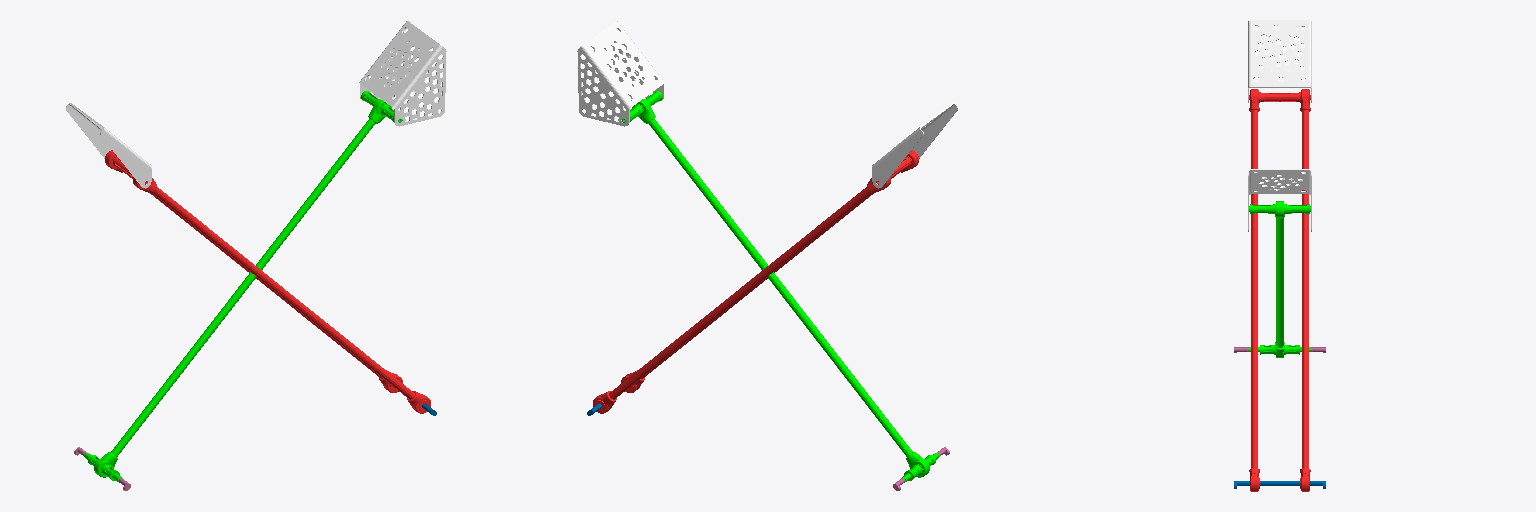
robot.urdf — delta_robot:
<?xml version="1.0"?>
<robot name="delta_robot">

    <!-- RAILS -->
    <link name="rails_link">

        <visual>
            <origin xyz="0 0 0"/>
            <geometry>
                <mesh filename="../meshes/rails.stl"/>
            </geometry>
            <material name="gray">
              <color rgba="0.8 0.8 0.8 1"/>
            </material>
        </visual>
    
    </link>
    <!-- RAILS END-->


    <!-- CARRIAGE 1 -->
    <link name="carriage_1_link">

        <visual>
            <origin xyz="0. 0. 0."/>
            <geometry>
                <mesh filename="../meshes/carriage_1.stl"/>
            </geometry>
            <material name="white">
              <color rgba="1. 1. 1. 1."/>
            </material>
        </visual>

    </link>

    <joint name="carriage_1_joint" type="prismatic">
        <origin xyz="0. 0. 0." rpy="0 0 0"/>
        <parent link="rails_link"/>
        <child link="carriage_1_link"/>
        <axis xyz="-1 0 1"/>
        <limit lower="60" upper="350" velocity="0" effort="0"/> 
    </joint>
    <!-- CARRIAGE 1 END-->


    <!-- CARRIAGE 2 -->
    <link name="carriage_2_link">

        <visual>
            <origin xyz="0. 0. 0."/>
            <geometry>
                <mesh filename="../meshes/carriage_2.stl"/>
            </geometry>
            <material name="white">
              <color rgba="1. 1. 1. 1."/>
            </material>
        </visual>

    </link>

    <joint name="carriage_2_joint" type="prismatic">
        <origin xyz="0. 0. 0." rpy="0 0 0"/>
        <parent link="rails_link"/>
        <child link="carriage_2_link"/>
        <axis xyz="1 0 1"/>
        <limit lower="60" upper="350" velocity="0" effort="0"/> 
    </joint>
    <!-- CARRIAGE 2 END-->


    <!-- ROD 1 -->
    <link name="rod_1_link">

        <visual>
            <origin xyz="0 0 0" rpy="0 0 0"/>
            <geometry>
                <mesh filename="../meshes/link_1.stl"/>
            </geometry>
            <material name="red">
              <color rgba="1. 0.2 0.2 1."/>
            </material>
        </visual>

    </link>

    <joint name="rod_1_joint" type="revolute">
        <origin xyz="0. 0. 0." rpy="0 0.7853981634 0"/>
        <parent link="carriage_1_link"/>
        <child link="rod_1_link"/>
        <axis xyz="0 -1 0"/>
        <limit lower="0" upper="6.28" velocity="0" effort="0"/> 
    </joint>

    <link name="rod_1_end-effector_link">
        <visual>
            <origin xyz="0 0 0" rpy="0 0 0"/>
            <geometry>
                <mesh filename="../meshes/end-effector_joint.stl"/>
            </geometry>
        </visual>
    
    </link>

    <joint name="rod_1_end-effector_joint" type="fixed">
        <origin xyz="450 0 0"/>
        <parent link="rod_1_link"/>
        <child link="rod_1_end-effector_link"/>
    </joint>
    <!-- ROD 1 END-->


    <!-- ROD 2 -->
    <link name="rod_2_link">

        <visual>
            <origin xyz="0 0 0" rpy="0 0 0"/>
            <geometry>
                <mesh filename="../meshes/link_2.stl"/>
            </geometry>
            <material name="green">
              <color rgba="0 1 0 1"/>
            </material>
        </visual>

    </link>

    <joint name="rod_2_joint" type="revolute">
        <origin xyz="0 0 0" rpy="0 2.35619449 0"/>
        <parent link="carriage_2_link"/>
        <child link="rod_2_link"/>
        <axis xyz="0 1 0"/>
        <limit lower="0" upper="6.28" velocity="0" effort="0"/> 
    </joint>

    <link name="rod_2_end-effector_link">
        <visual>
            <origin xyz="0 0 0" rpy="0 0 0"/>
            <geometry>
                <mesh filename="../meshes/end-effector_joint.stl"/>
            </geometry>
        </visual>
    
    </link>

    <joint name="rod_2_end-effector_joint" type="fixed">
        <origin xyz="450 0 0"/>
        <parent link="rod_2_link"/>
        <child link="rod_2_end-effector_link"/>
    </joint>
    <!-- ROD 2 END-->

</robot>

--- Facts derived from the render (not from the file) ---
3 views of the same robot in one strip: view 1: azimuth 30°, elevation 25°; view 2: azimuth 150°, elevation 25°; view 3: azimuth 270°, elevation 25° (orthographic).
Robot: delta_robot — 7 links, 6 joints (2 revolute, 2 prismatic, 2 fixed); root link rails_link; default pose: all joints at 0 but 2 set to mid-range because 0 is outside their limits (carriage_1_joint = 205, carriage_2_joint = 205).
Links seen in each view (by area): view 1: carriage_2_link, rod_2_link, rod_1_link, carriage_1_link; view 2: carriage_2_link, rod_2_link, rod_1_link, carriage_1_link; view 3: rod_1_link, carriage_1_link, rod_2_link, carriage_2_link.
Link boxes in pixels (x1,y1,x2,y2): carriage_2_link: (359,21,446,126); rod_2_link: (84,91,401,482); rod_1_link: (105,150,430,413); carriage_1_link: (66,103,151,188); carriage_2_link: (577,21,664,126); rod_2_link: (622,91,939,482); rod_1_link: (593,150,918,413); carriage_1_link: (872,103,957,188); rod_1_link: (1249,89,1310,491); carriage_1_link: (1248,20,1311,102); rod_2_link: (1249,201,1310,357); carriage_2_link: (1248,169,1311,231).
Bounding box of the posed robot: 394 × 100 × 398 m (x, y, z).
6 mesh visuals loaded from 6 distinct referenced files (5 binary STL); not drawn: 1 (reference not matched to a file when rendering).
